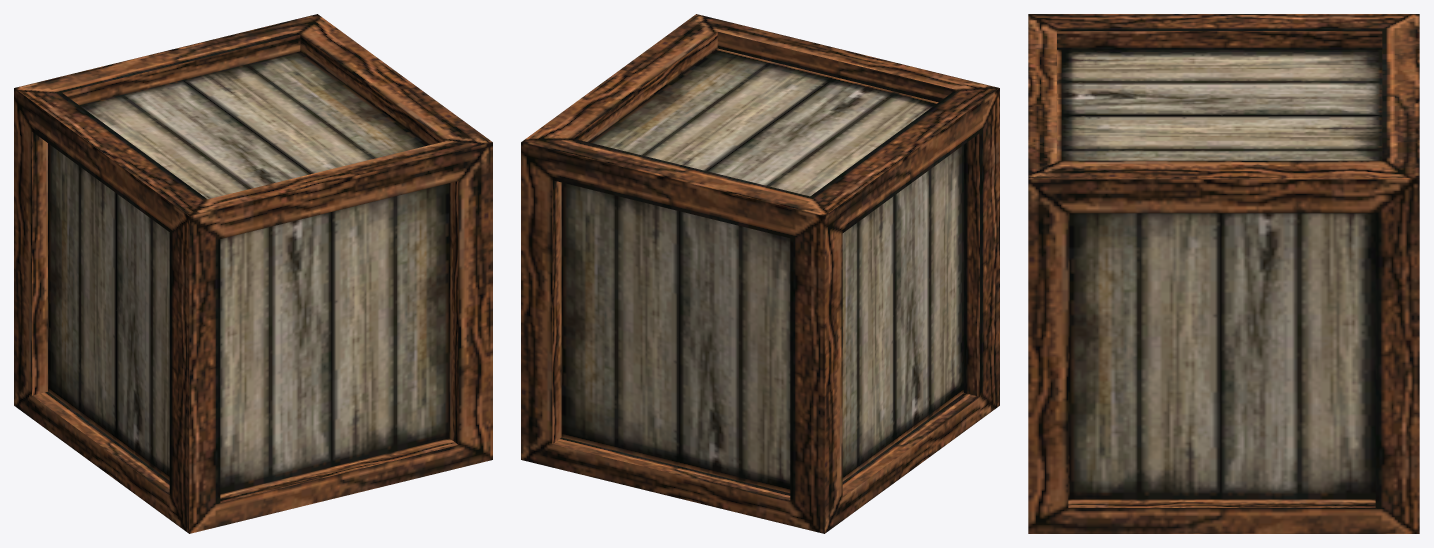
Rendered from LVL_RIV_INST_CRATEC.obj.
The picture shows the model from 3 angles, left to right: view 1: azimuth 30°, elevation 25°; view 2: azimuth 150°, elevation 25°; view 3: azimuth 270°, elevation 25°; orthographic projection. The views are drawn at different scales.
Parts seen in each view (by area): view 1: riv_inst_cratec; view 2: riv_inst_cratec; view 3: riv_inst_cratec.
Boxes of the visible parts, bbox=[...] form: riv_inst_cratec: bbox=[14, 14, 492, 533]; riv_inst_cratec: bbox=[521, 14, 999, 533]; riv_inst_cratec: bbox=[1028, 14, 1419, 533].
Bounding box in the file's own units: 81.48 × 81.48 × 81.48.
